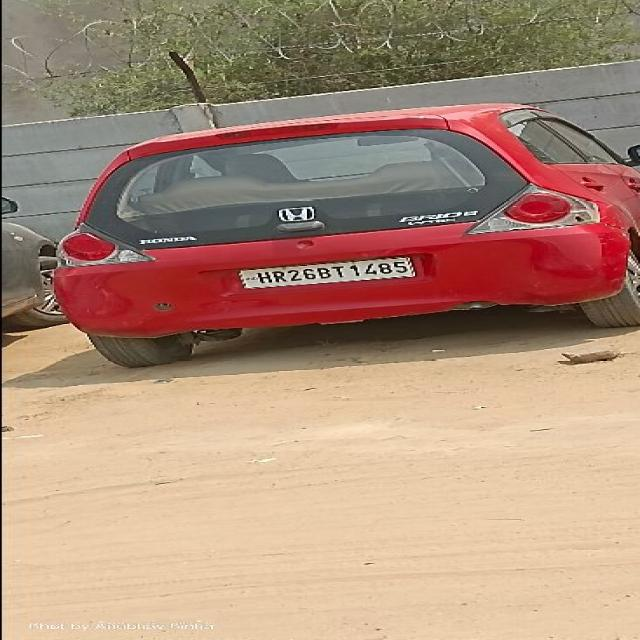license_plate: (235, 254, 417, 289)
